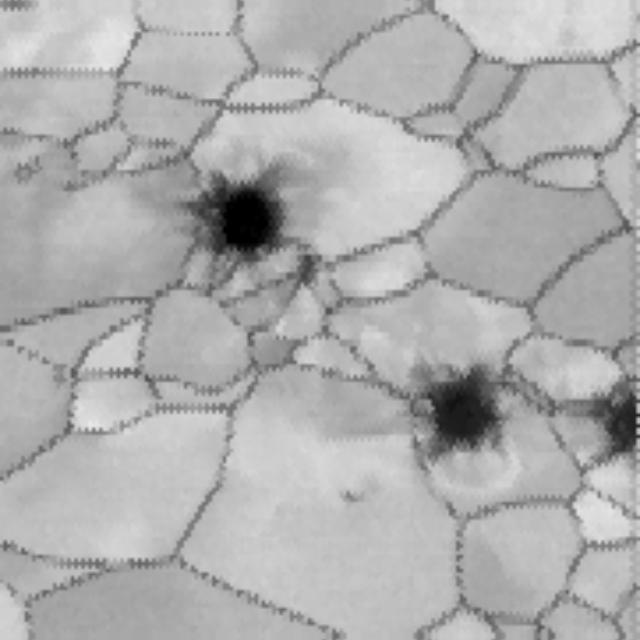good_void: (167, 157, 300, 269), (403, 350, 516, 458), (595, 372, 640, 460), (338, 474, 392, 516), (290, 250, 326, 290), (9, 153, 49, 187)
